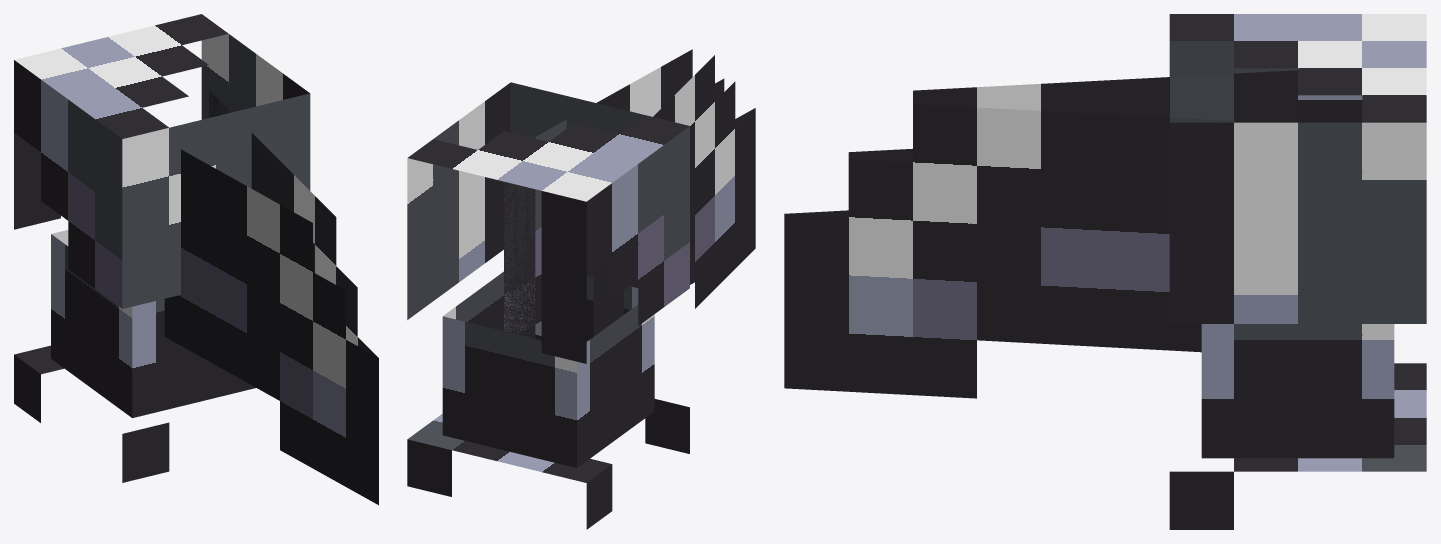
Rendered from chymical_alembic.mouthed.obj.
3 views of the same model, side by side, from view 1: azimuth 30°, elevation 25°; view 2: azimuth 150°, elevation 25°; view 3: azimuth 270°, elevation 25° (orthographic). The views are drawn at different scales.
Visible parts, largest first — view 1: alembic; view 2: alembic; view 3: alembic.
Part boxes in pixels (x1,y1,x2,y2): alembic: [14, 14, 378, 505]; alembic: [407, 49, 755, 529]; alembic: [784, 14, 1426, 529].
Size of the model in its own units: 0.5 by 0.875 by 1.25.
